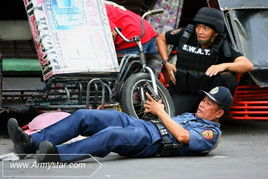fall: (1, 85, 236, 165)
